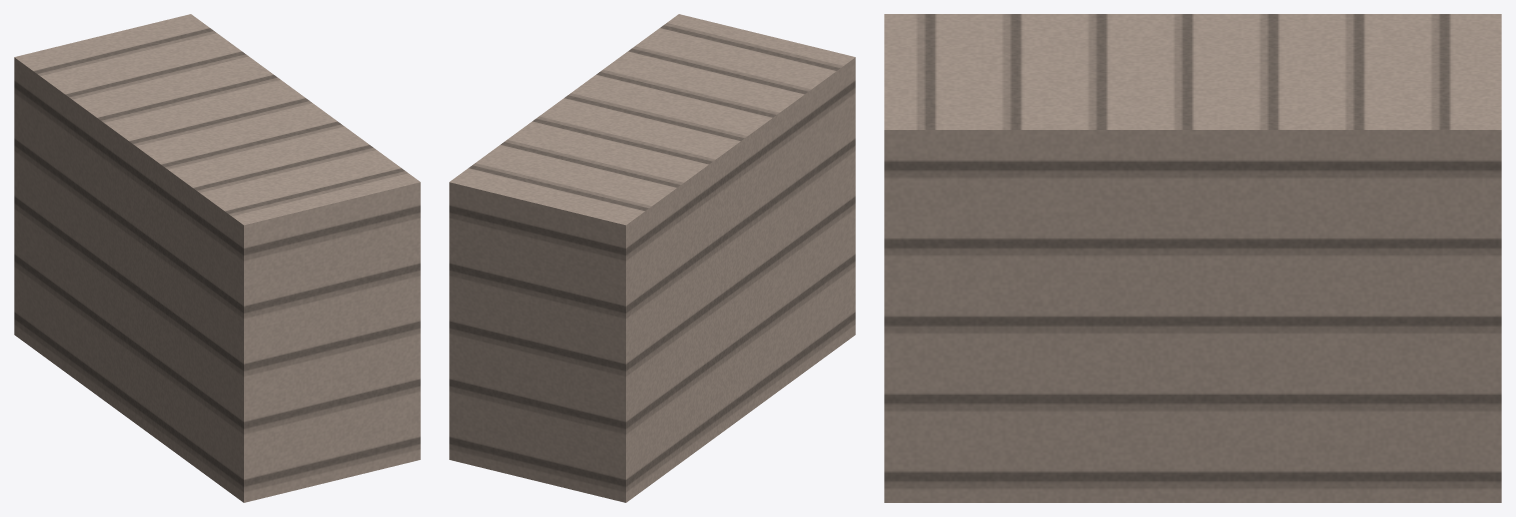
File: saddle_stand.glb
The picture shows the model from 3 angles, left to right: view 1: azimuth 30°, elevation 25°; view 2: azimuth 150°, elevation 25°; view 3: azimuth 270°, elevation 25°; orthographic projection. The views are drawn at different scales.
Parts seen in each view (by area): view 1: saddle_stand-col; view 2: saddle_stand-col; view 3: saddle_stand-col.
Part boxes in pixels (x1,y1,x2,y2): saddle_stand-col: (14,14,420,502); saddle_stand-col: (449,14,855,502); saddle_stand-col: (884,14,1501,502).
Size of the model in its own units: 0.4 by 0.6 by 0.9.
1 material, 1 textured.
